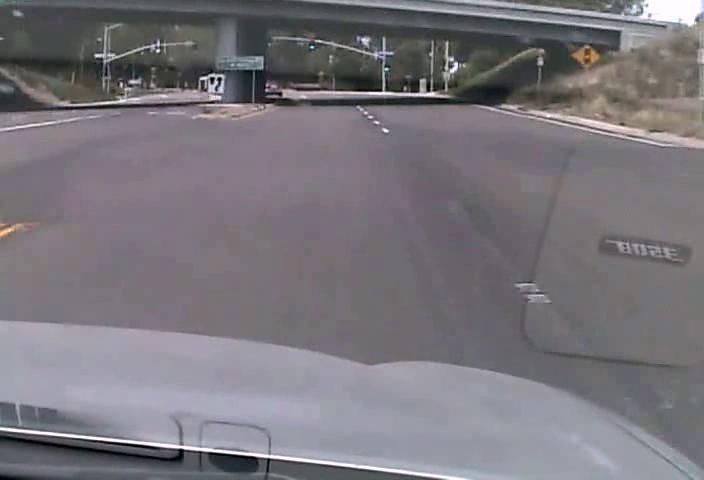signalAhead: (570, 42, 601, 70)
